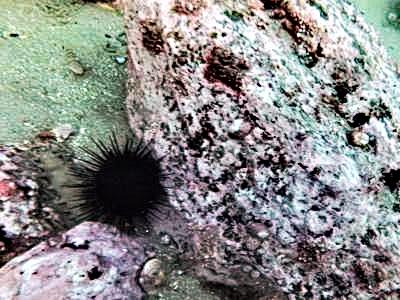urchin: (61, 129, 174, 236)
